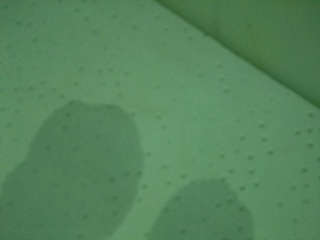Water_detected: (27, 113, 129, 236), (147, 191, 213, 240)
